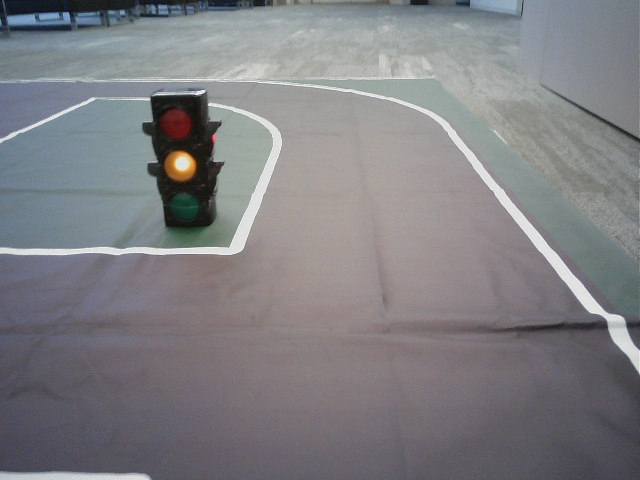yellow: (153, 96, 203, 224)
